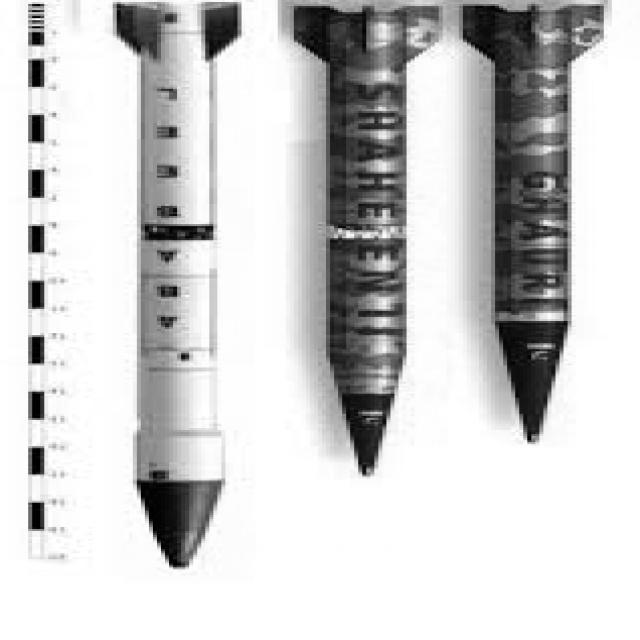missile: (87, 1, 251, 578), (284, 0, 459, 490), (460, 1, 620, 451)
